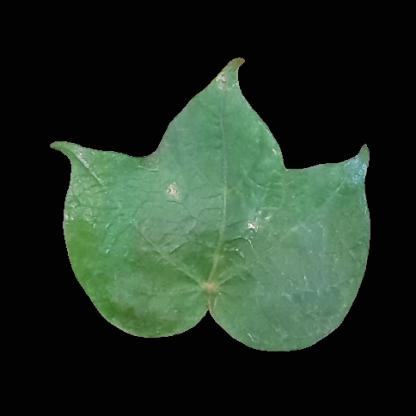healthy: (102, 179, 324, 307), (158, 148, 254, 311), (315, 186, 362, 290), (177, 103, 249, 155), (225, 308, 331, 340)
